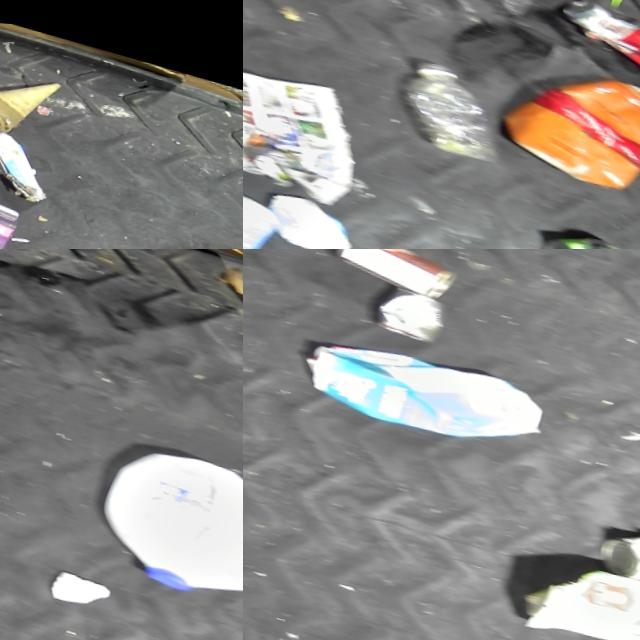can: (546, 0, 640, 72), (328, 249, 461, 299), (370, 278, 450, 343), (534, 213, 640, 249), (243, 119, 300, 184), (593, 513, 640, 583)
milk_jug: (87, 427, 243, 616)
non_white_jug: (294, 320, 551, 460), (489, 38, 640, 189)
plastic_bottle: (389, 46, 507, 160)
